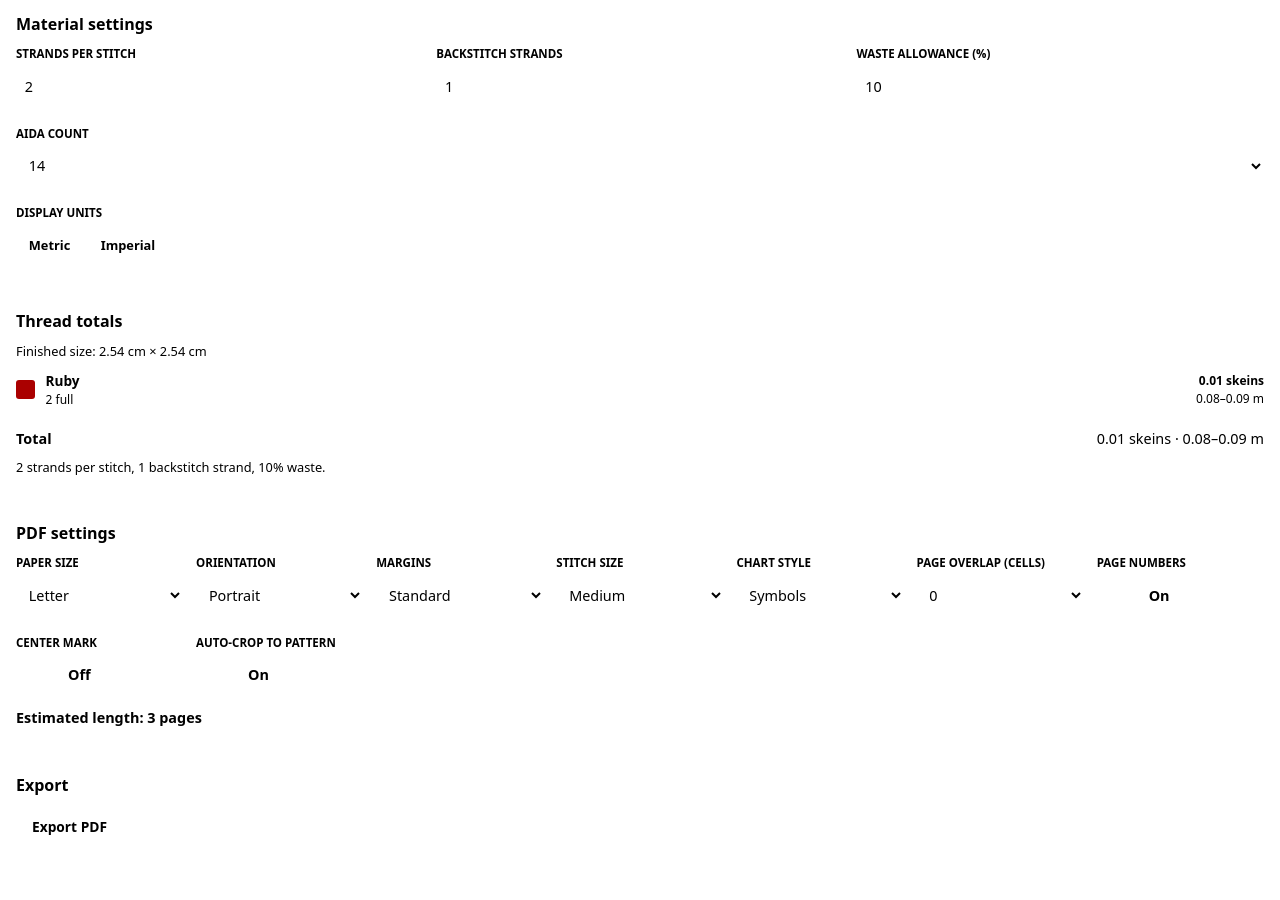
Test: ExportPanel › changes display units through the workspace
Click the button "Imperial".
click(128, 246)  # box [88, 226, 168, 265]
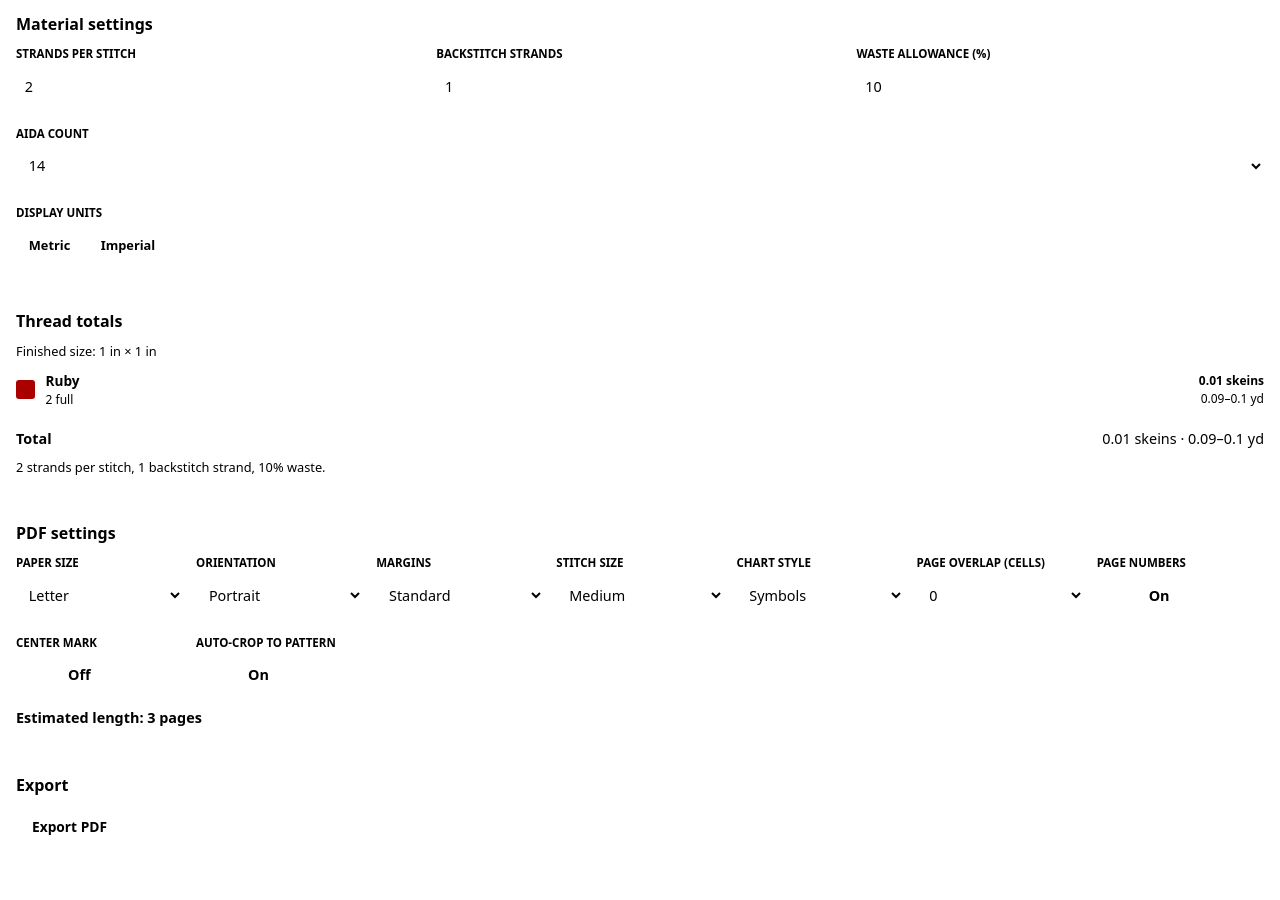
Now the text "Finished size: 1 in × 1 in" is shown, box [16, 342, 157, 360]
